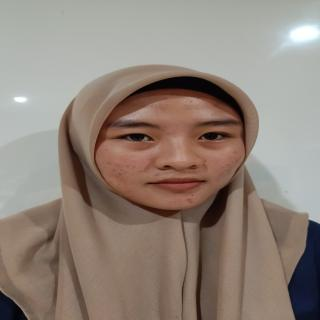Netral: (85, 80, 263, 216)
